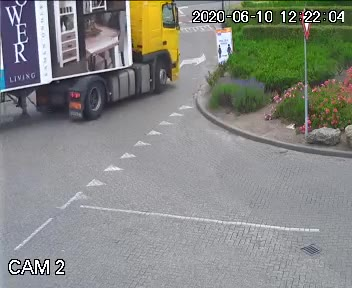car: (0, 0, 186, 128)
